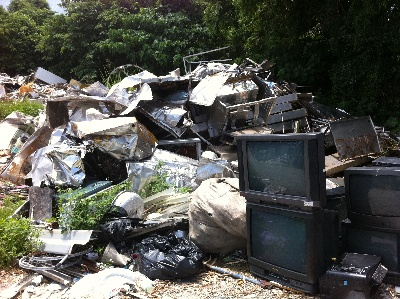plastic_bag: (189, 176, 249, 256), (30, 124, 86, 188), (138, 233, 204, 282)
